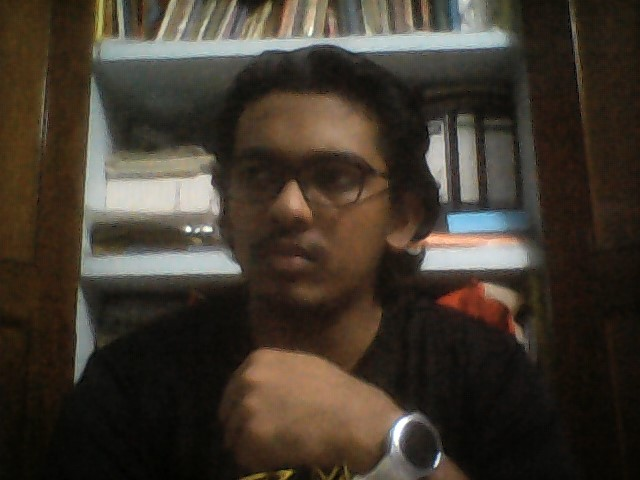person: (46, 43, 550, 473)
smartwatch: (334, 406, 455, 480)
